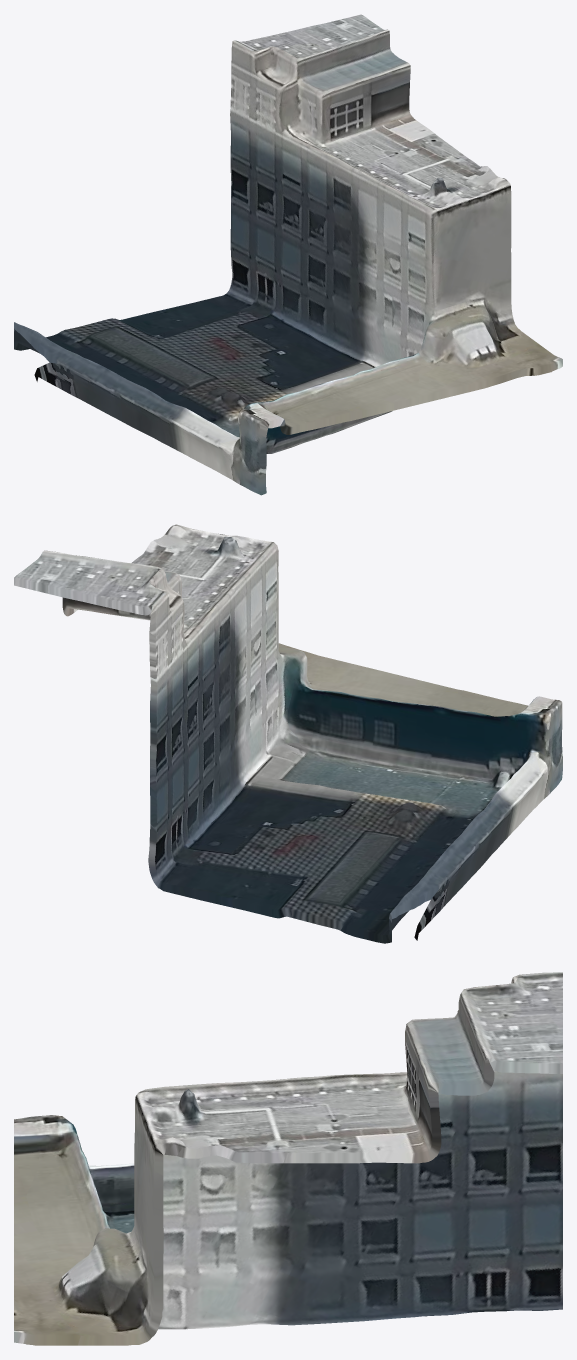
Rendered from z20-167762-405240-h1-yup-uvflip-v3-world.glb.
3 renders of one model, top to bottom at view 1: azimuth 30°, elevation 25°; view 2: azimuth 150°, elevation 25°; view 3: azimuth 270°, elevation 25°, orthographic. The views are drawn at different scales.
Size of the model in its own units: 30.16 by 22.72 by 30.32.
1 material, 1 textured.
